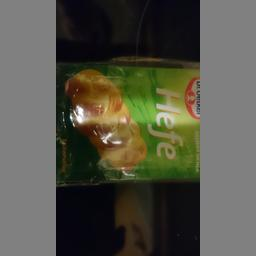cake: (54, 62, 199, 188)
